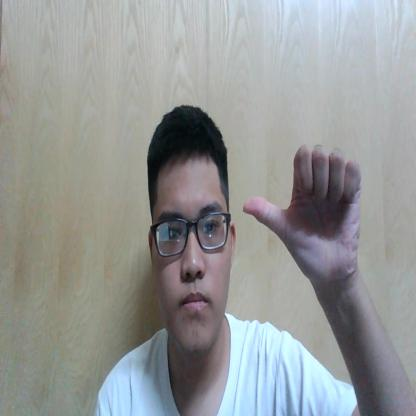right: (244, 143, 362, 281)
